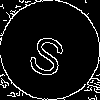S: (25, 25, 72, 80)
